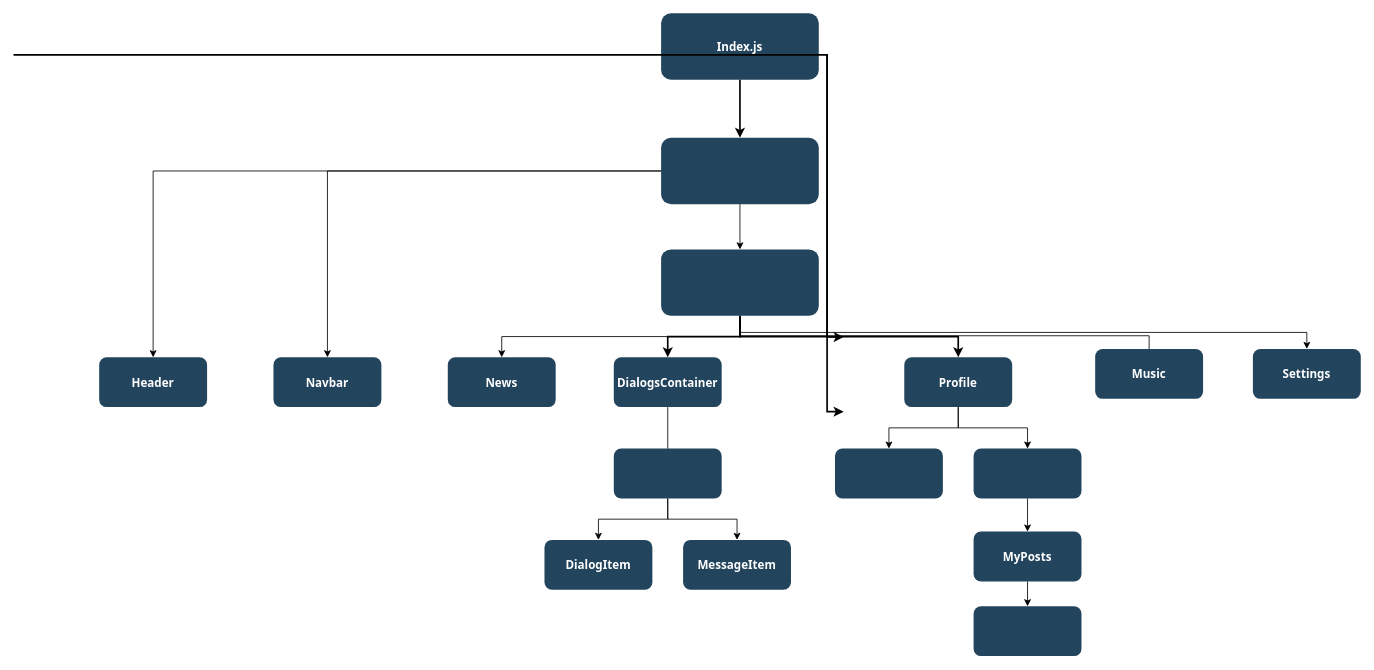
This 1374x670 diagram has some shape labels left out. The shapes that lost their labels are listed below. From the top down, each one's centre as x and y in pixels, then its label:
the point at 739,170: App.js
the point at 739,282: BrowserRouter
the point at 667,473: Dialogs
the point at 888,473: ProfileInfo
the point at 1027,473: MyPostsContainer
the point at 1027,631: Post
